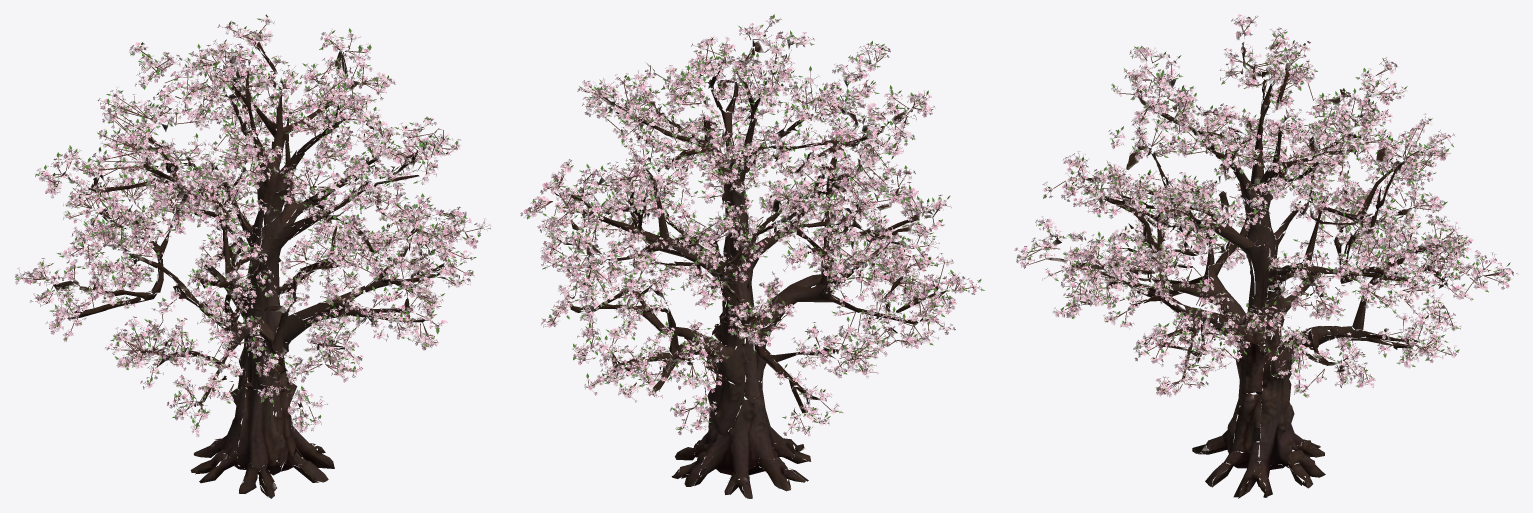
The model's file is cherry_full_bloom.glb.
3 views of the same model, side by side, from view 1: azimuth 30°, elevation 25°; view 2: azimuth 150°, elevation 25°; view 3: azimuth 270°, elevation 25° (orthographic). The views are drawn at different scales.
Parts seen in each view (by area): view 1: tripo_node_592f35cb-822b-4f6e-8757-c086516ca8e0; view 2: tripo_node_592f35cb-822b-4f6e-8757-c086516ca8e0; view 3: tripo_node_592f35cb-822b-4f6e-8757-c086516ca8e0.
Part boxes in pixels (<box>): tripo_node_592f35cb-822b-4f6e-8757-c086516ca8e0: <box>15,14,491,498</box>; tripo_node_592f35cb-822b-4f6e-8757-c086516ca8e0: <box>520,14,984,498</box>; tripo_node_592f35cb-822b-4f6e-8757-c086516ca8e0: <box>1014,14,1518,498</box>.
Size of the model in its own units: 7.31 by 8.04 by 8.46.
Materials: 7 (1 with a texture image).
